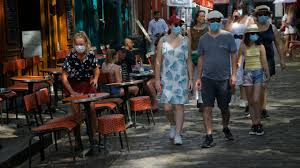with-mask: (67, 28, 92, 57), (202, 10, 227, 37), (163, 15, 188, 41), (250, 6, 275, 29), (242, 23, 260, 47)
